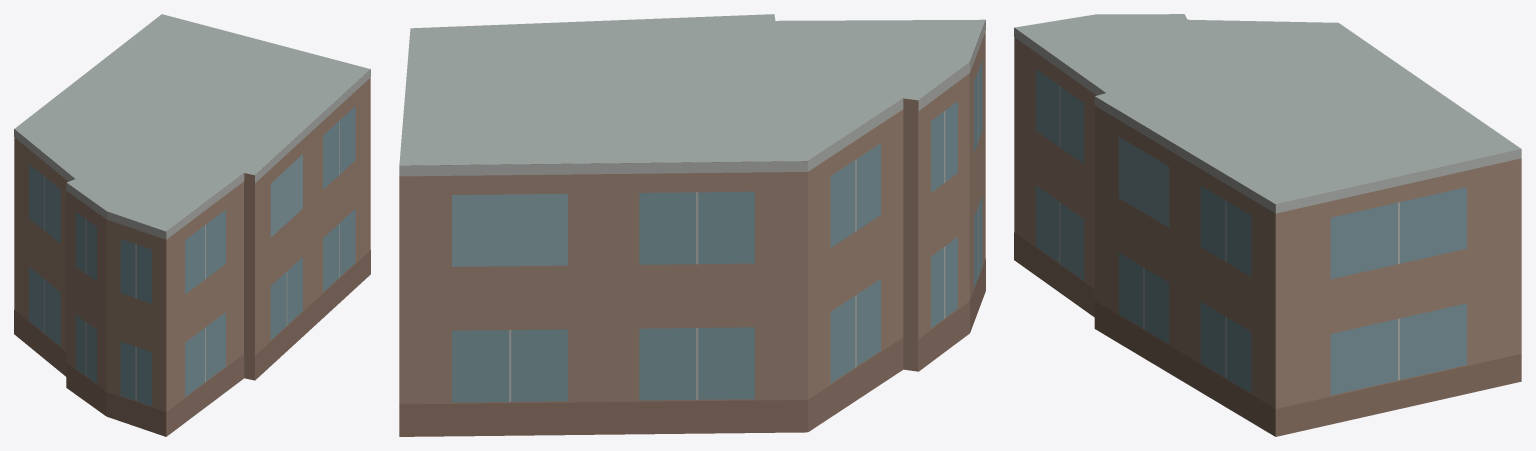
Rendered from survey-upis-32602426.glb.
3 renders of one model, left to right at view 1: azimuth 30°, elevation 25°; view 2: azimuth 150°, elevation 25°; view 3: azimuth 270°, elevation 25°, orthographic. The views are drawn at different scales.
Visible parts, largest first — view 1: survey-upis-32602426.tmp; view 2: survey-upis-32602426.tmp; view 3: survey-upis-32602426.tmp.
Boxes of the visible parts, x1,y1,x2,y2 form: survey-upis-32602426.tmp: [14, 14, 370, 436]; survey-upis-32602426.tmp: [399, 14, 985, 436]; survey-upis-32602426.tmp: [1014, 14, 1521, 436].
Size of the model in its own units: 10.72 by 6.1 by 12.08.
